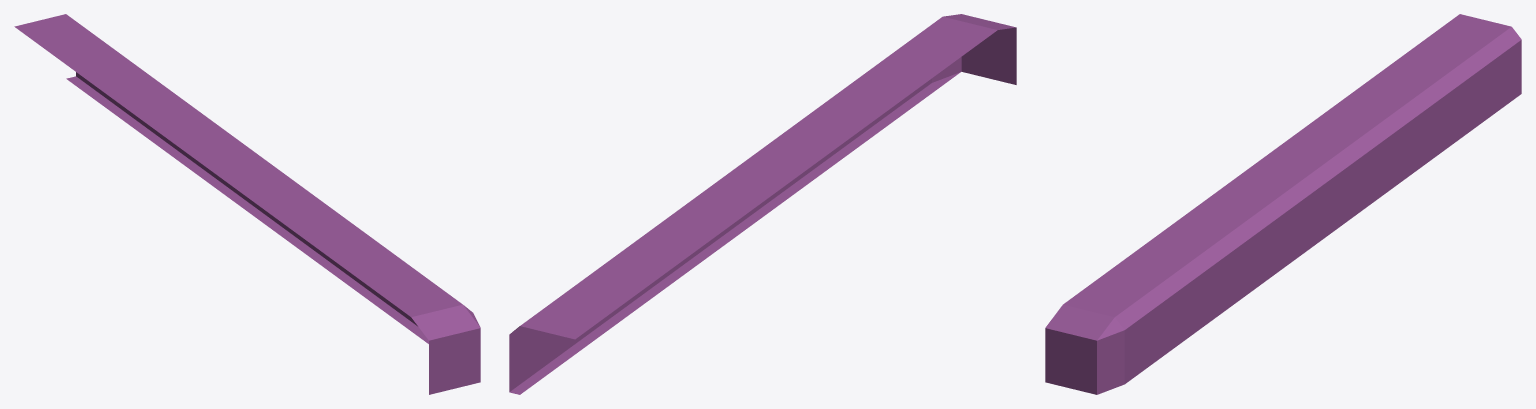
The model's file is Corner_Base_platform.fbx.
3 views of the same model, side by side, from view 1: azimuth 30°, elevation 25°; view 2: azimuth 150°, elevation 25°; view 3: azimuth 330°, elevation 25° (orthographic). The views are drawn at different scales.
Parts seen in each view (by area): view 1: pCube13; view 2: pCube13; view 3: pCube13.
Boxes of the visible parts, left/top/right/bottom form: pCube13: left=14, top=14, right=480, bottom=394; pCube13: left=509, top=14, right=1016, bottom=394; pCube13: left=1045, top=14, right=1521, bottom=394.
Bounding box in the file's own units: 0.3553 × 0.3553 × 4.12.
